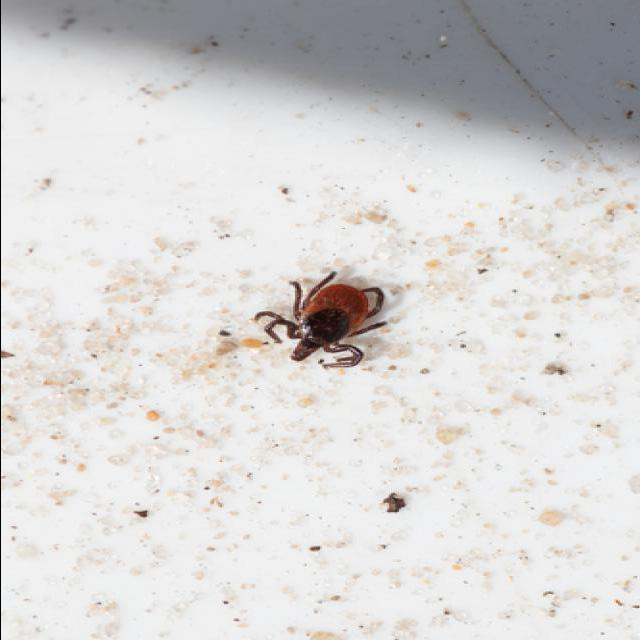Ixodes Ricinus-F: (242, 273, 384, 369)
